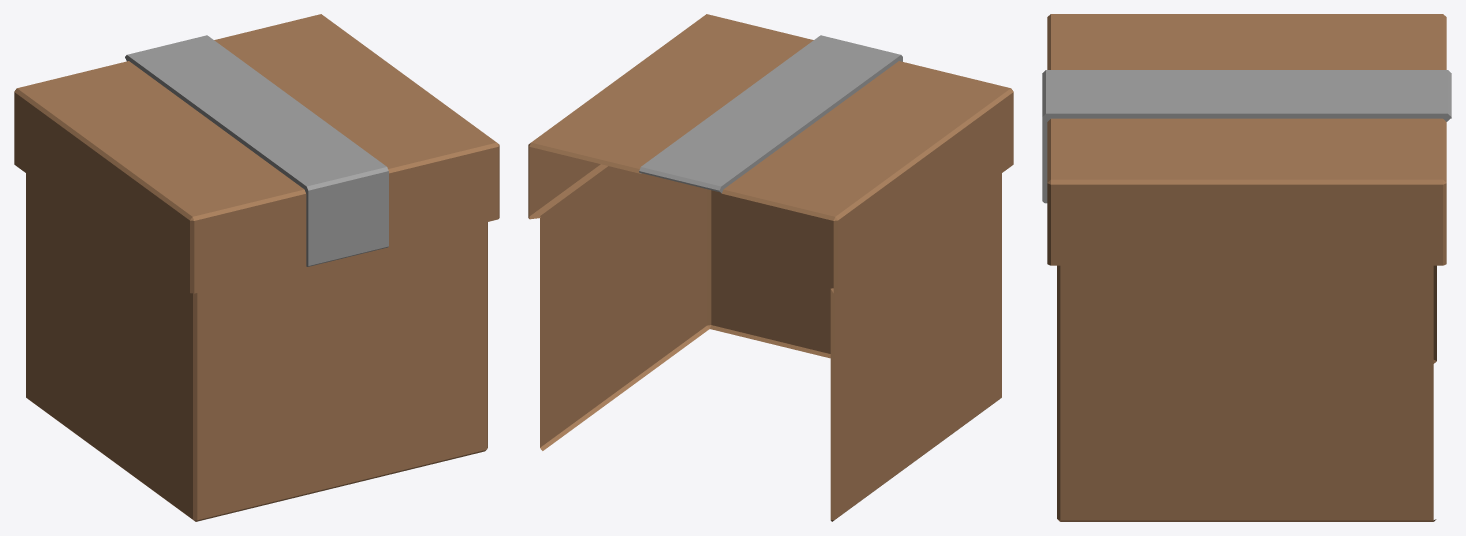
The model's file is CardboardBox.fbx.
The picture shows the model from 3 angles, left to right: view 1: azimuth 30°, elevation 25°; view 2: azimuth 150°, elevation 25°; view 3: azimuth 270°, elevation 25°; orthographic projection. The views are drawn at different scales.
Visible parts, largest first — view 1: New CardBox; view 2: New CardBox; view 3: New CardBox.
Boxes of the visible parts, box(x1,y1,x2,y2) form: New CardBox: box(14, 14, 499, 521); New CardBox: box(528, 14, 1013, 521); New CardBox: box(1042, 14, 1451, 521).
Size of the model in its own units: 50 by 48.5 by 51.19.
